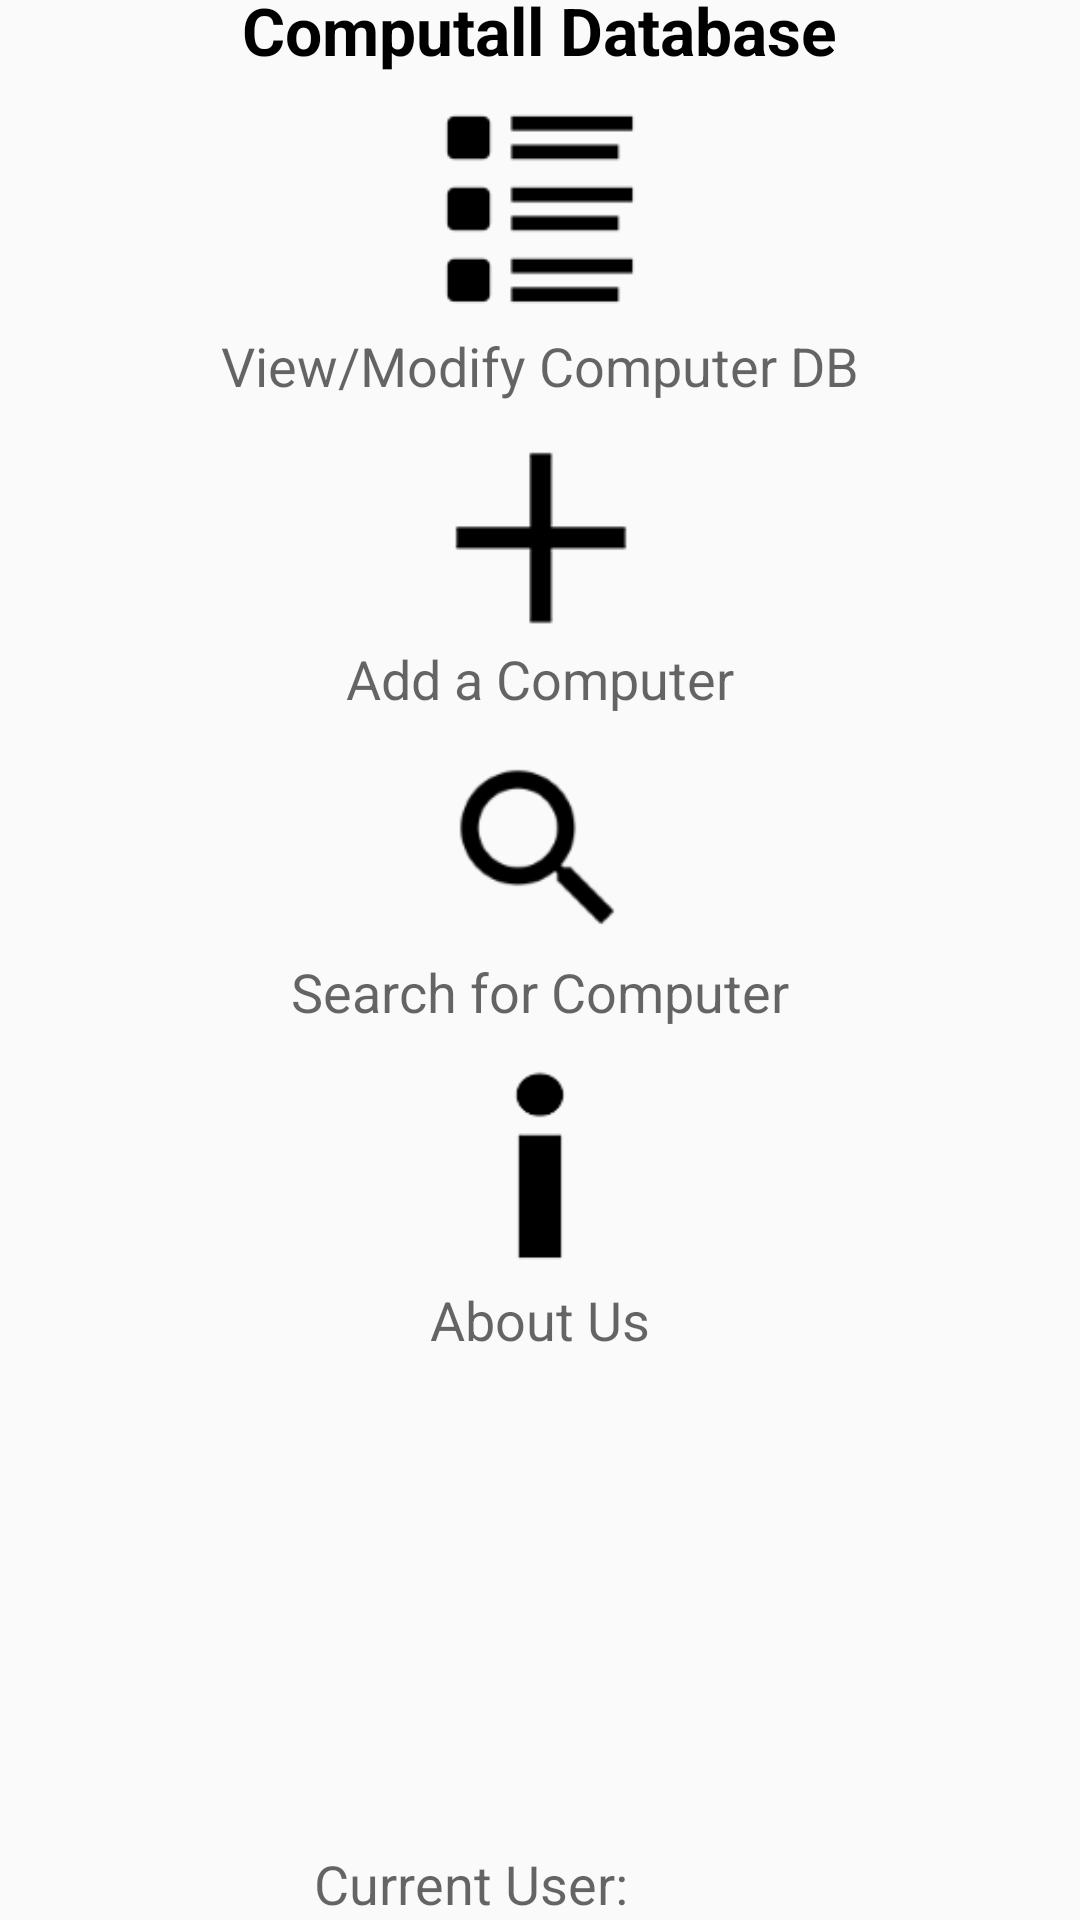

Named icons in this screenshot (1080 x 1920) and their bounding boxes, (x1, y1, x2, y2):
imgaddbutt: (455, 452, 627, 624)
imglistbutt: (446, 115, 633, 302)
searchicon: (459, 769, 614, 924)
